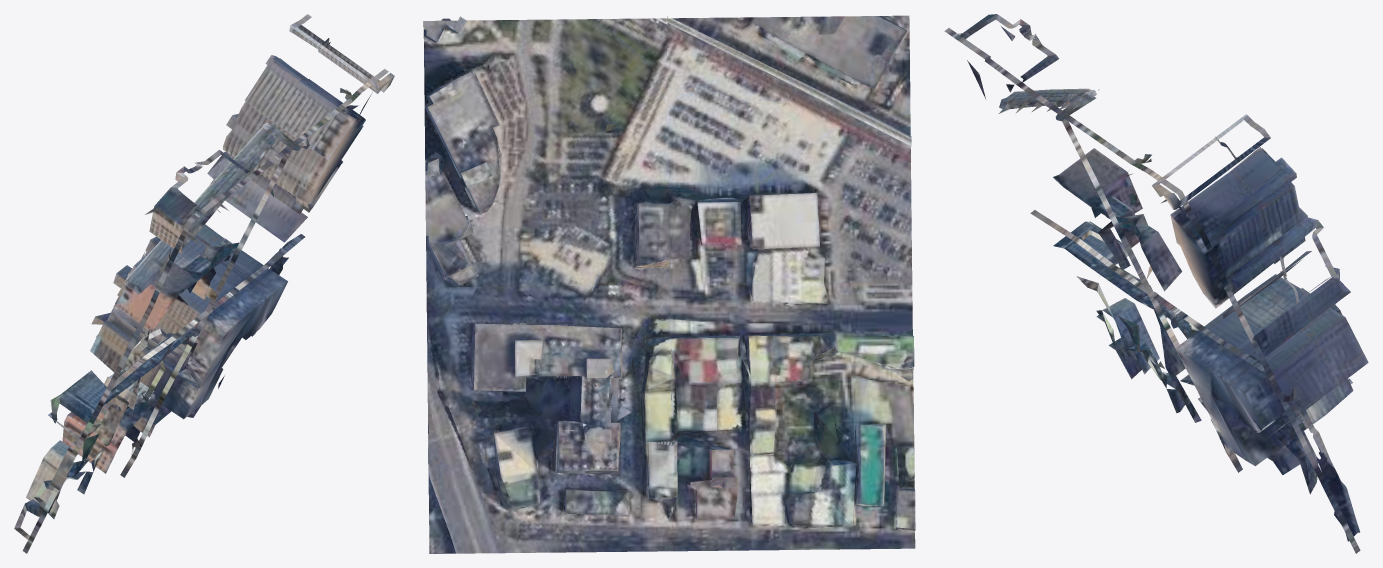
3 renders of one model, left to right at view 1: azimuth 30°, elevation 25°; view 2: azimuth 150°, elevation 25°; view 3: azimuth 270°, elevation 25°, orthographic. The views are drawn at different scales.
Size of the model in its own units: 311 by 306 by 262.
Materials: 1 (1 with a texture image).
